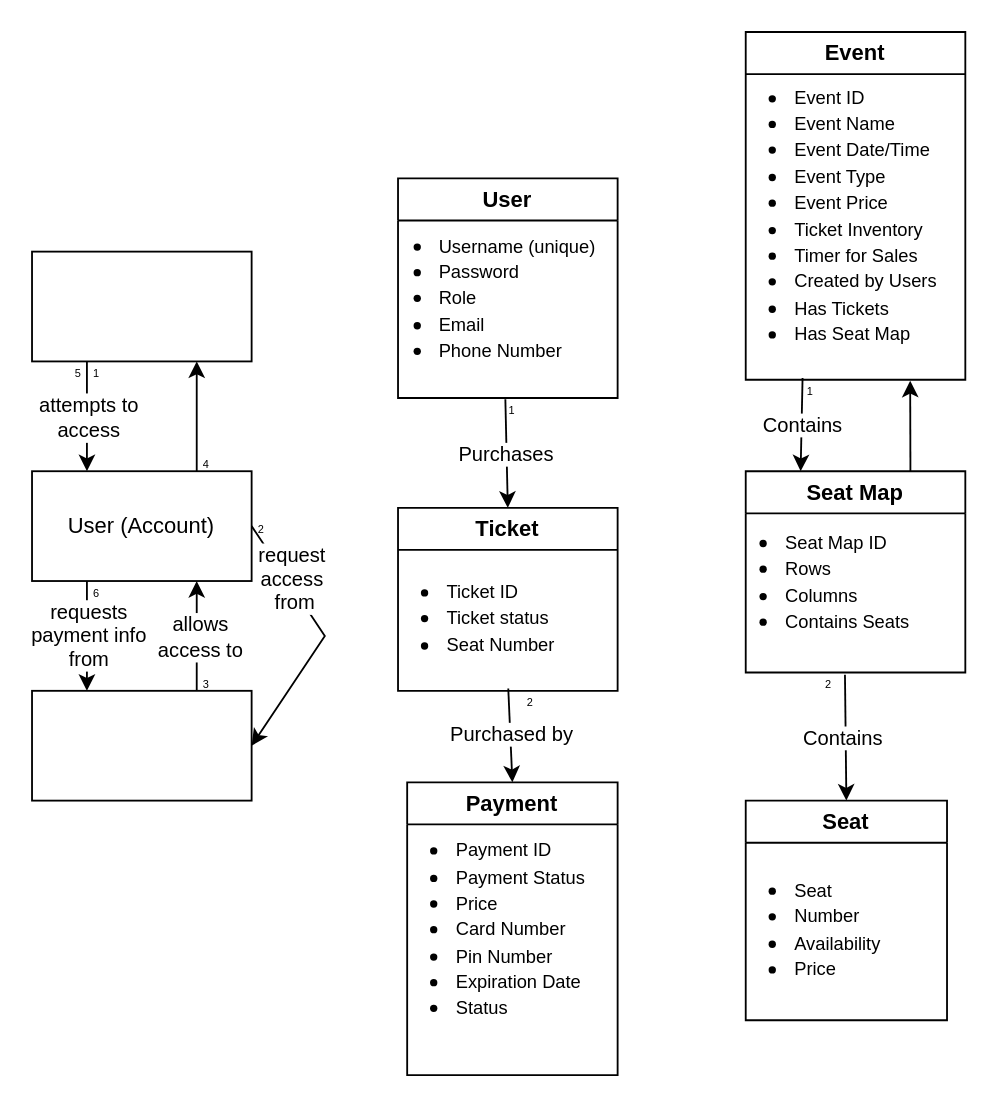
Image size: 1007x1107. Some labels were removed from this diagram. The box of each missing label's shape, as (x1, y1, x2, y2) in pixels:
External Database: (30, 689, 252, 801)
Malicious User: (30, 250, 252, 361)
